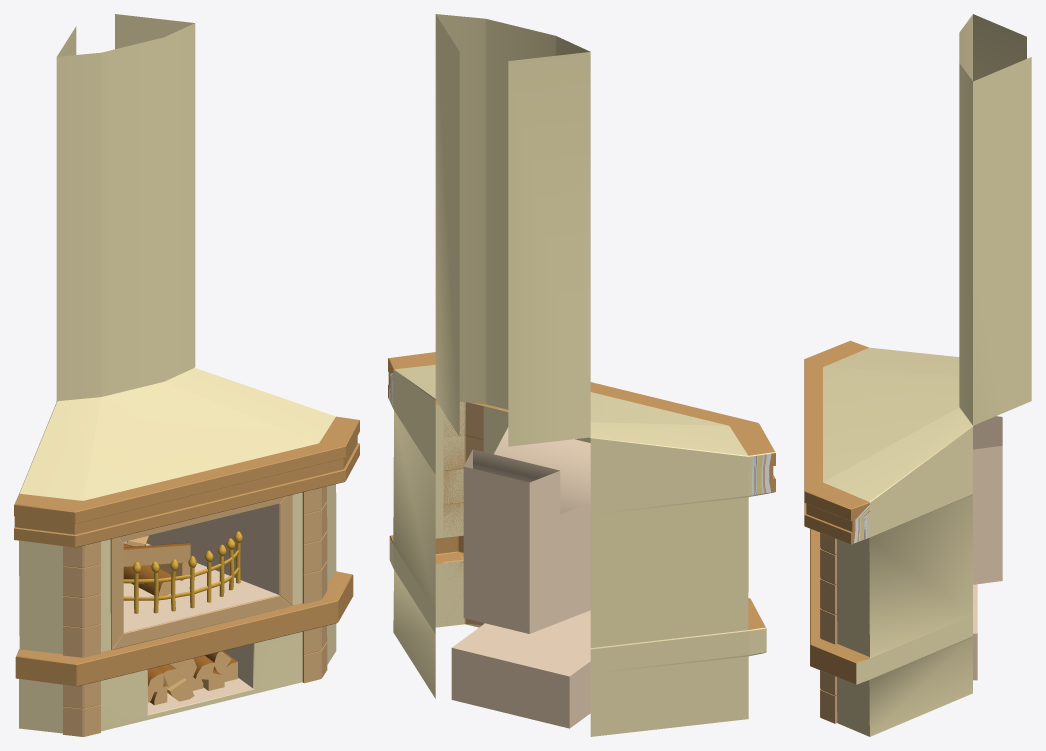
File: Fireplase3.fbx
The picture shows the model from 3 angles, left to right: view 1: azimuth 30°, elevation 25°; view 2: azimuth 150°, elevation 25°; view 3: azimuth 270°, elevation 25°; orthographic projection. The views are drawn at different scales.
Visible parts, largest first — view 1: Fireplase3; view 2: Fireplase3; view 3: Fireplase3.
Boxes of the visible parts, <box> form: Fireplase3: <box>14,14,359,736</box>; Fireplase3: <box>388,14,775,736</box>; Fireplase3: <box>804,14,1031,736</box>.
Size of the model in its own units: 1.76 by 2.98 by 1.
